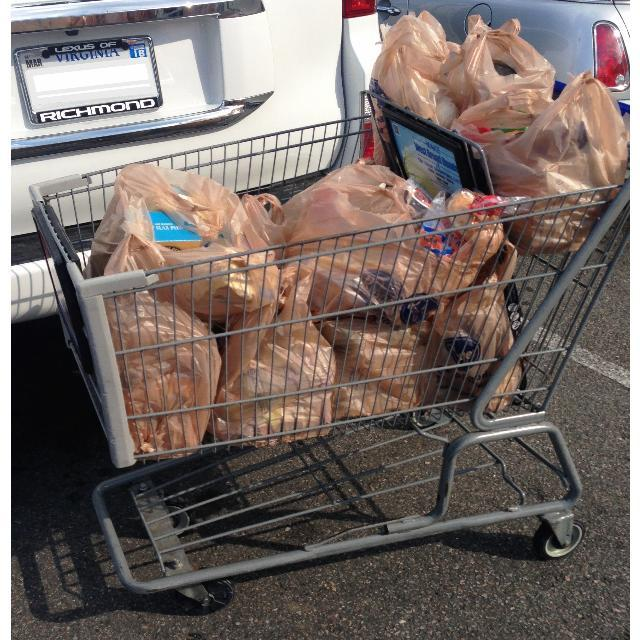Single-layer Plastic: (282, 162, 504, 313), (88, 164, 280, 324), (485, 72, 626, 254), (211, 266, 336, 442), (105, 291, 221, 453), (412, 241, 518, 403), (446, 15, 555, 143), (371, 12, 459, 127), (322, 318, 422, 418)
